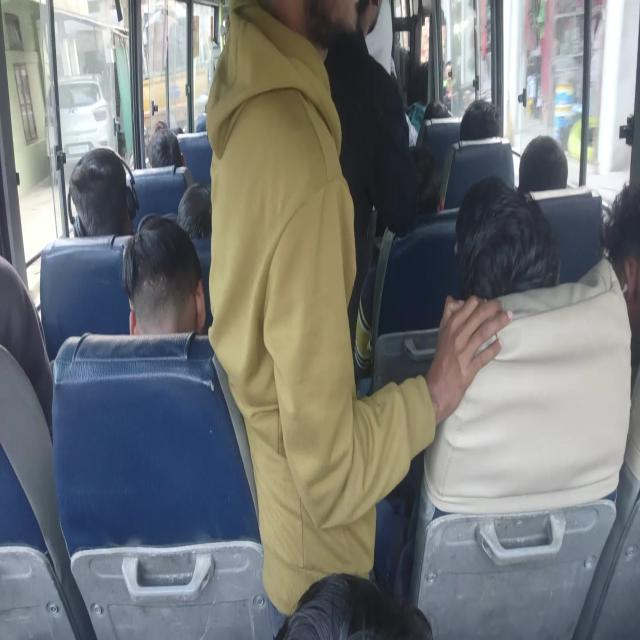person: (452, 176, 562, 306), (323, 5, 402, 179), (122, 216, 205, 337), (0, 249, 53, 437), (276, 573, 416, 637), (434, 100, 515, 206), (601, 179, 640, 384), (67, 148, 138, 232), (516, 133, 569, 195), (177, 182, 212, 242), (146, 126, 184, 169), (423, 99, 453, 122)
